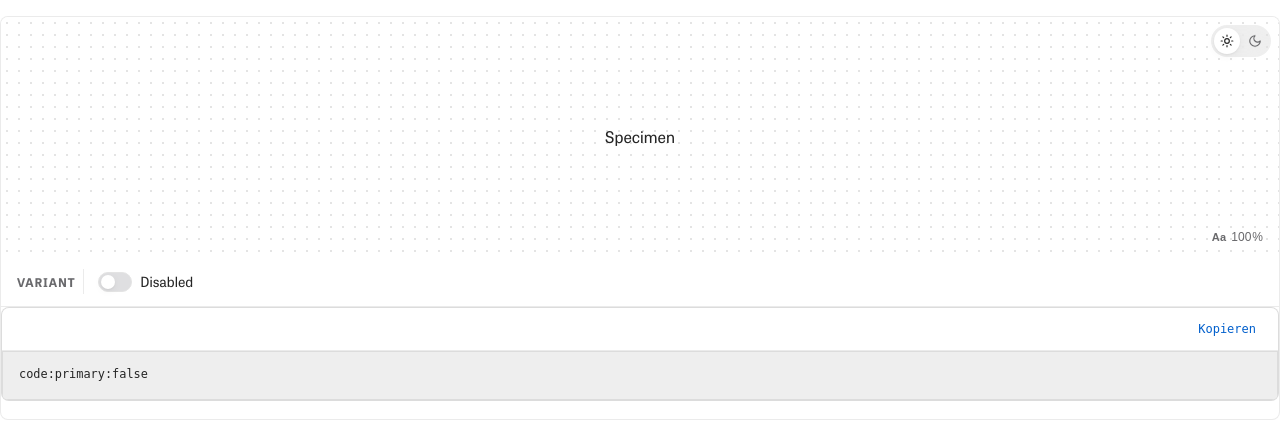
it: Playground (generischer Harness) › Toggle-Chip schaltet Boolean-State um
The width and height of the screenshot is (1280, 438).
Click the switch labelled "Disabled".
click(146, 282)  # box [96,269,195,294]
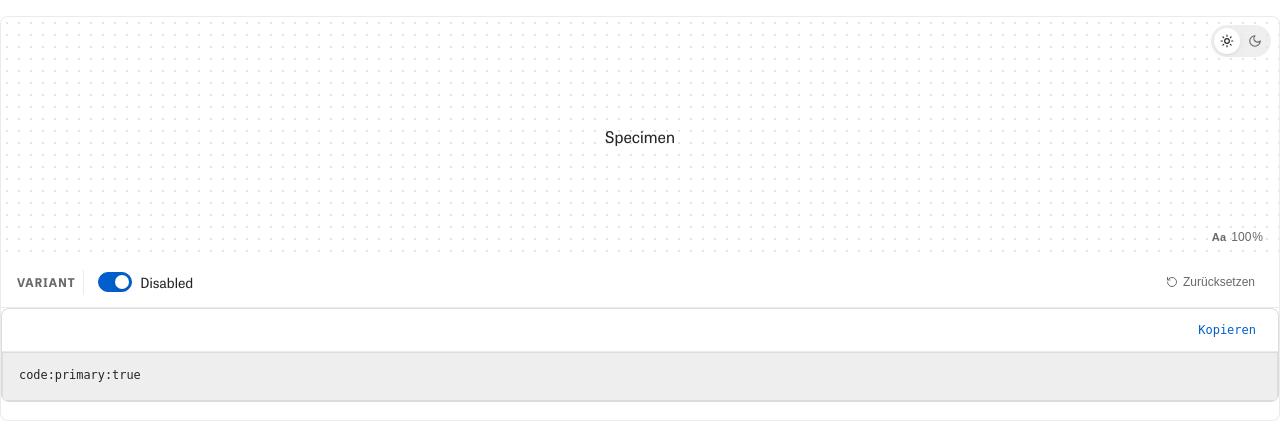
Result: the text "code:primary:true" is shown at [19,368,141,382]
